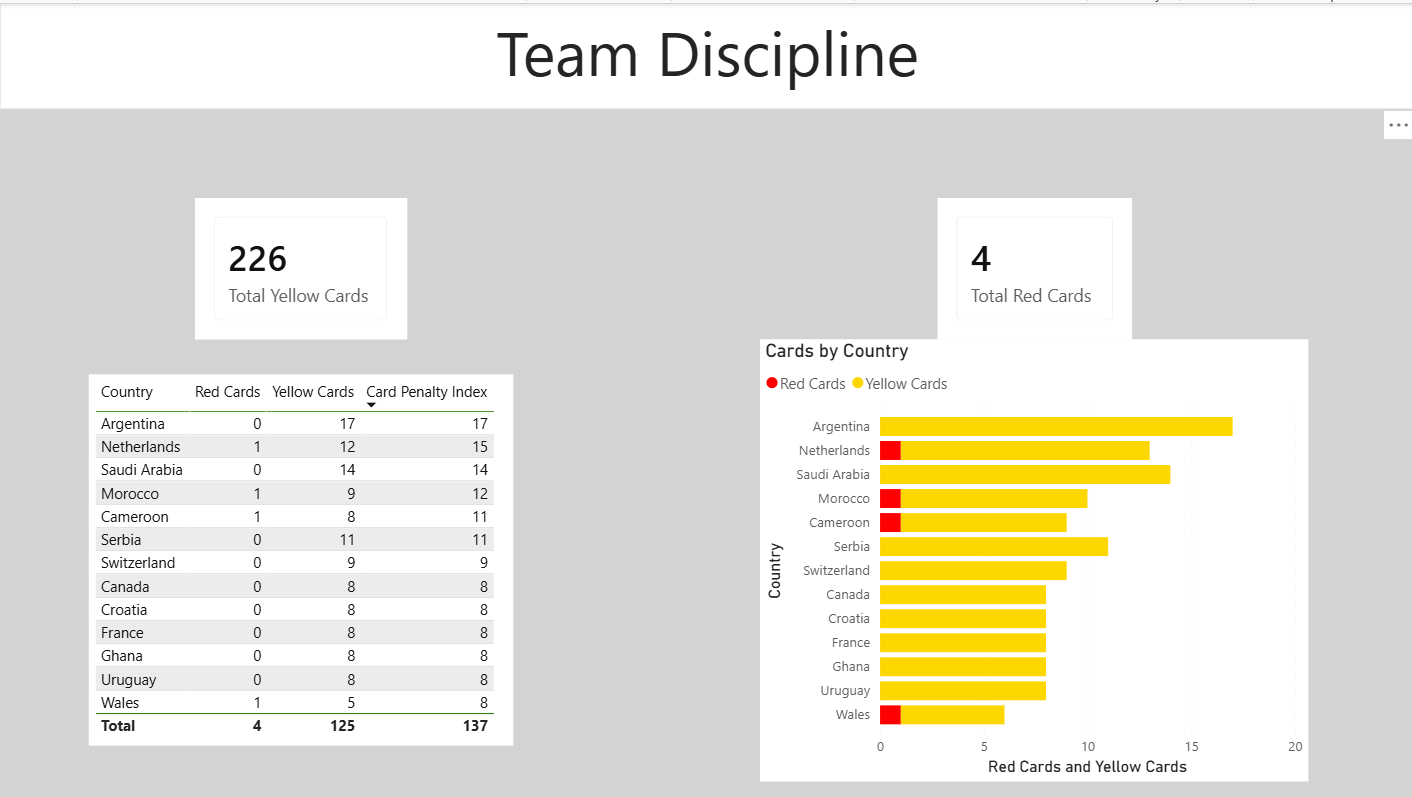

The page's visual inventory and layout, read from the dashboard file:
{"tool":"powerbi","page":{"name":"Team Discipline","canvas":[1280,720],"ordinal":2},"visuals":[{"type":"tableEx","fields":{"Values":["cupData.team","Sum(cupData.cards_red)","Sum(cupData.cards_yellow)","cupData.Discipline Score"]},"box":[80,336,384,336],"z":0},{"type":"barChart","title":"Cards by Country","fields":{"Category":["cupData.team"],"Y":["Sum(cupData.cards_red)","Sum(cupData.cards_yellow)"]},"box":[688,304,496,400],"z":1000},{"type":"cardVisual","fields":{"Data":["Sum(cupData.cards_red)"]},"box":[848,176,176,128],"z":2000},{"type":"cardVisual","fields":{"Data":["Sum(cupData.cards_yellow)"]},"box":[176,176,192,128],"z":3000},{"type":"textbox","box":[0,0,1280,96],"z":3001}]}

Visuals, with their boxes in screenshot pixels (x1, y1, x2, y2), scaled from the page's 1280x720 canvas onto the 1412x797 screenshot:
tableEx - cupData.team x Sum(cupData.cards_red): x1=88 y1=372 x2=512 y2=744
"Cards by Country" barChart: x1=759 y1=337 x2=1306 y2=779
cardVisual - Sum(cupData.cards_red): x1=935 y1=195 x2=1130 y2=337
cardVisual - Sum(cupData.cards_yellow): x1=194 y1=195 x2=406 y2=337
textbox: x1=0 y1=0 x2=1411 y2=106
